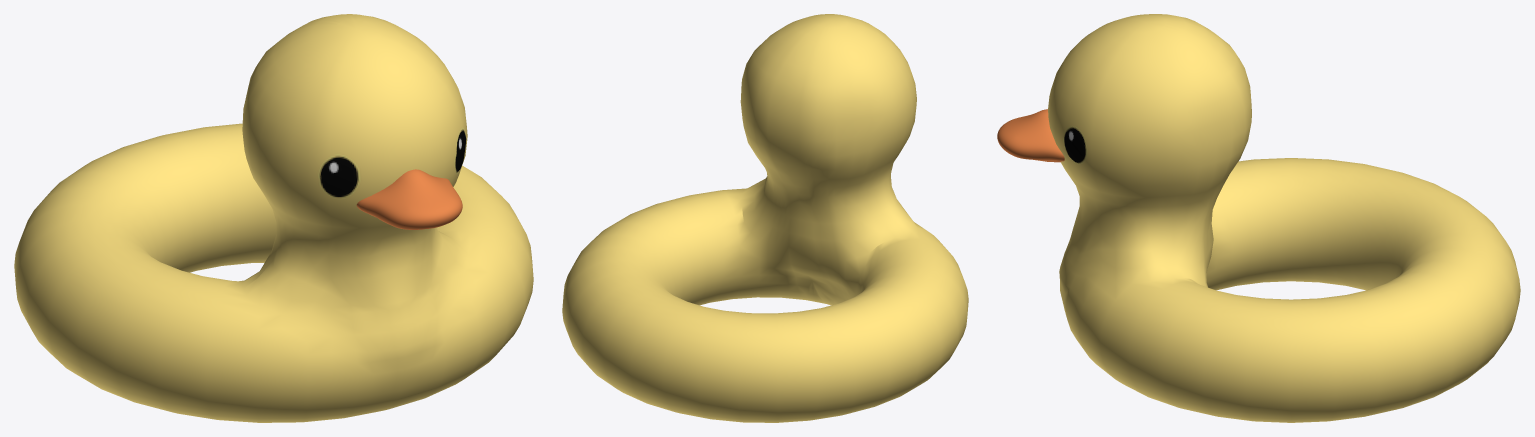
The model's file is duck_floaty.glb.
3 views of the same model, side by side, from view 1: azimuth 30°, elevation 25°; view 2: azimuth 150°, elevation 25°; view 3: azimuth 270°, elevation 25° (orthographic). The views are drawn at different scales.
Parts seen in each view (by area): view 1: simple_1, bill simple_0; view 2: simple_1; view 3: simple_1, bill simple_0.
Boxes of the visible parts, x1=… form: simple_1: x1=14, y1=14, x2=533, y2=422; bill simple_0: x1=356, y1=169, x2=462, y2=229; simple_1: x1=562, y1=14, x2=968, y2=422; simple_1: x1=1048, y1=14, x2=1520, y2=422; bill simple_0: x1=997, y1=109, x2=1064, y2=162.
Bounding box in the file's own units: 4.68 × 3.65 × 5.34.
2 materials, 1 textured.
